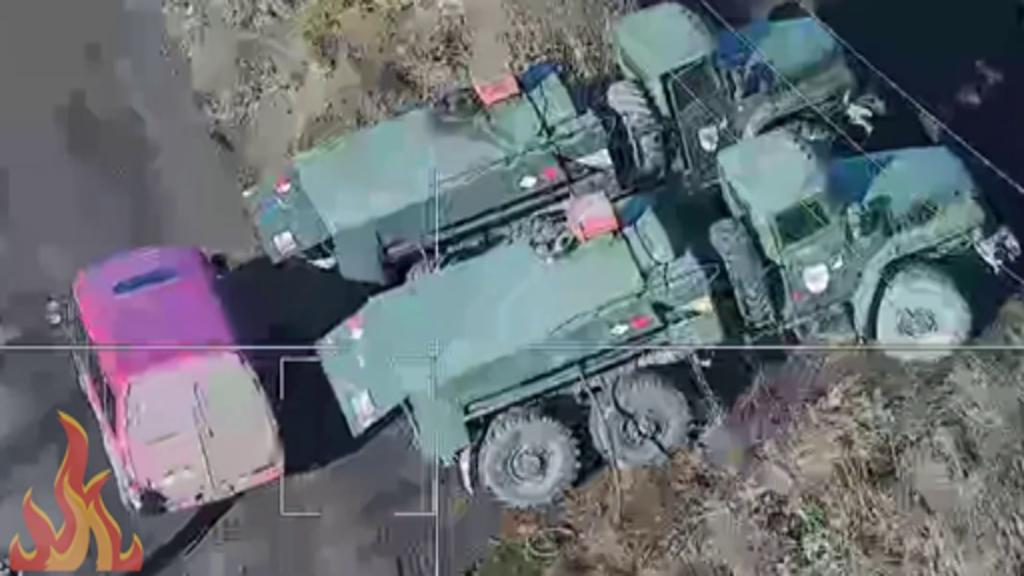CAR: (48, 233, 284, 508)
TRUCK: (366, 134, 992, 508), (288, 3, 856, 308)
